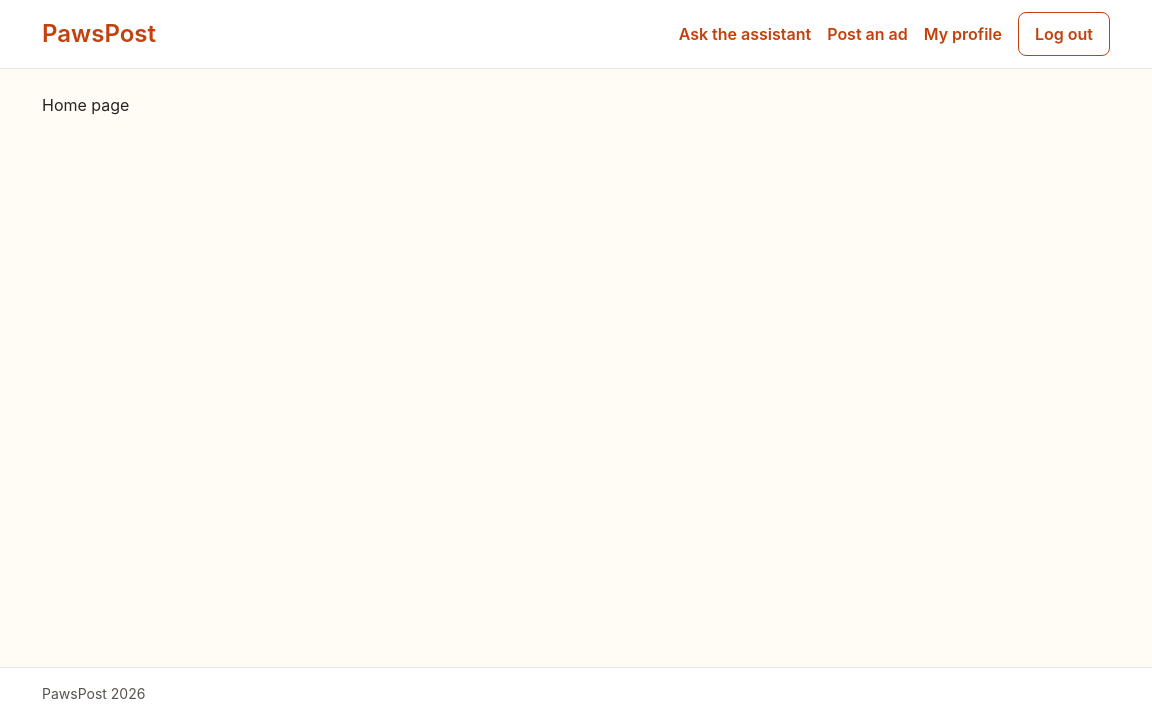
Scenario: AuthNav post an ad link › opens the create page when clicked
Click the link "Post an ad" at (868, 34), box [827, 24, 908, 44]
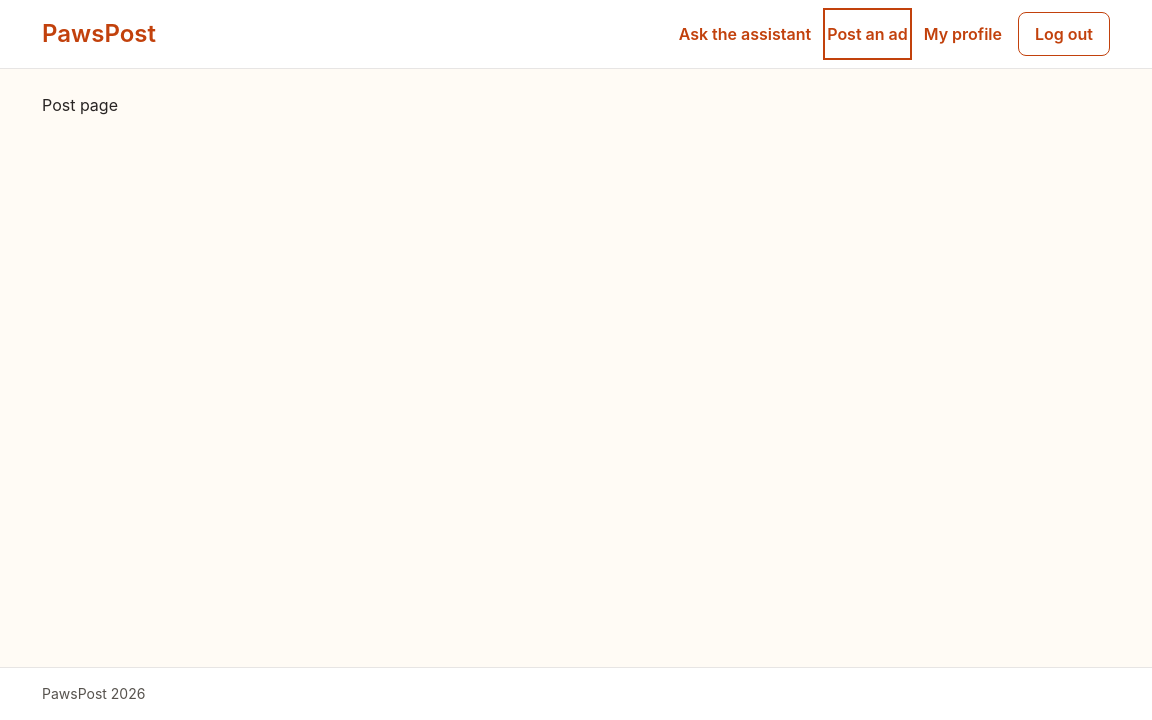
Expected: the text "Post page" is shown, [42, 95, 118, 115]
